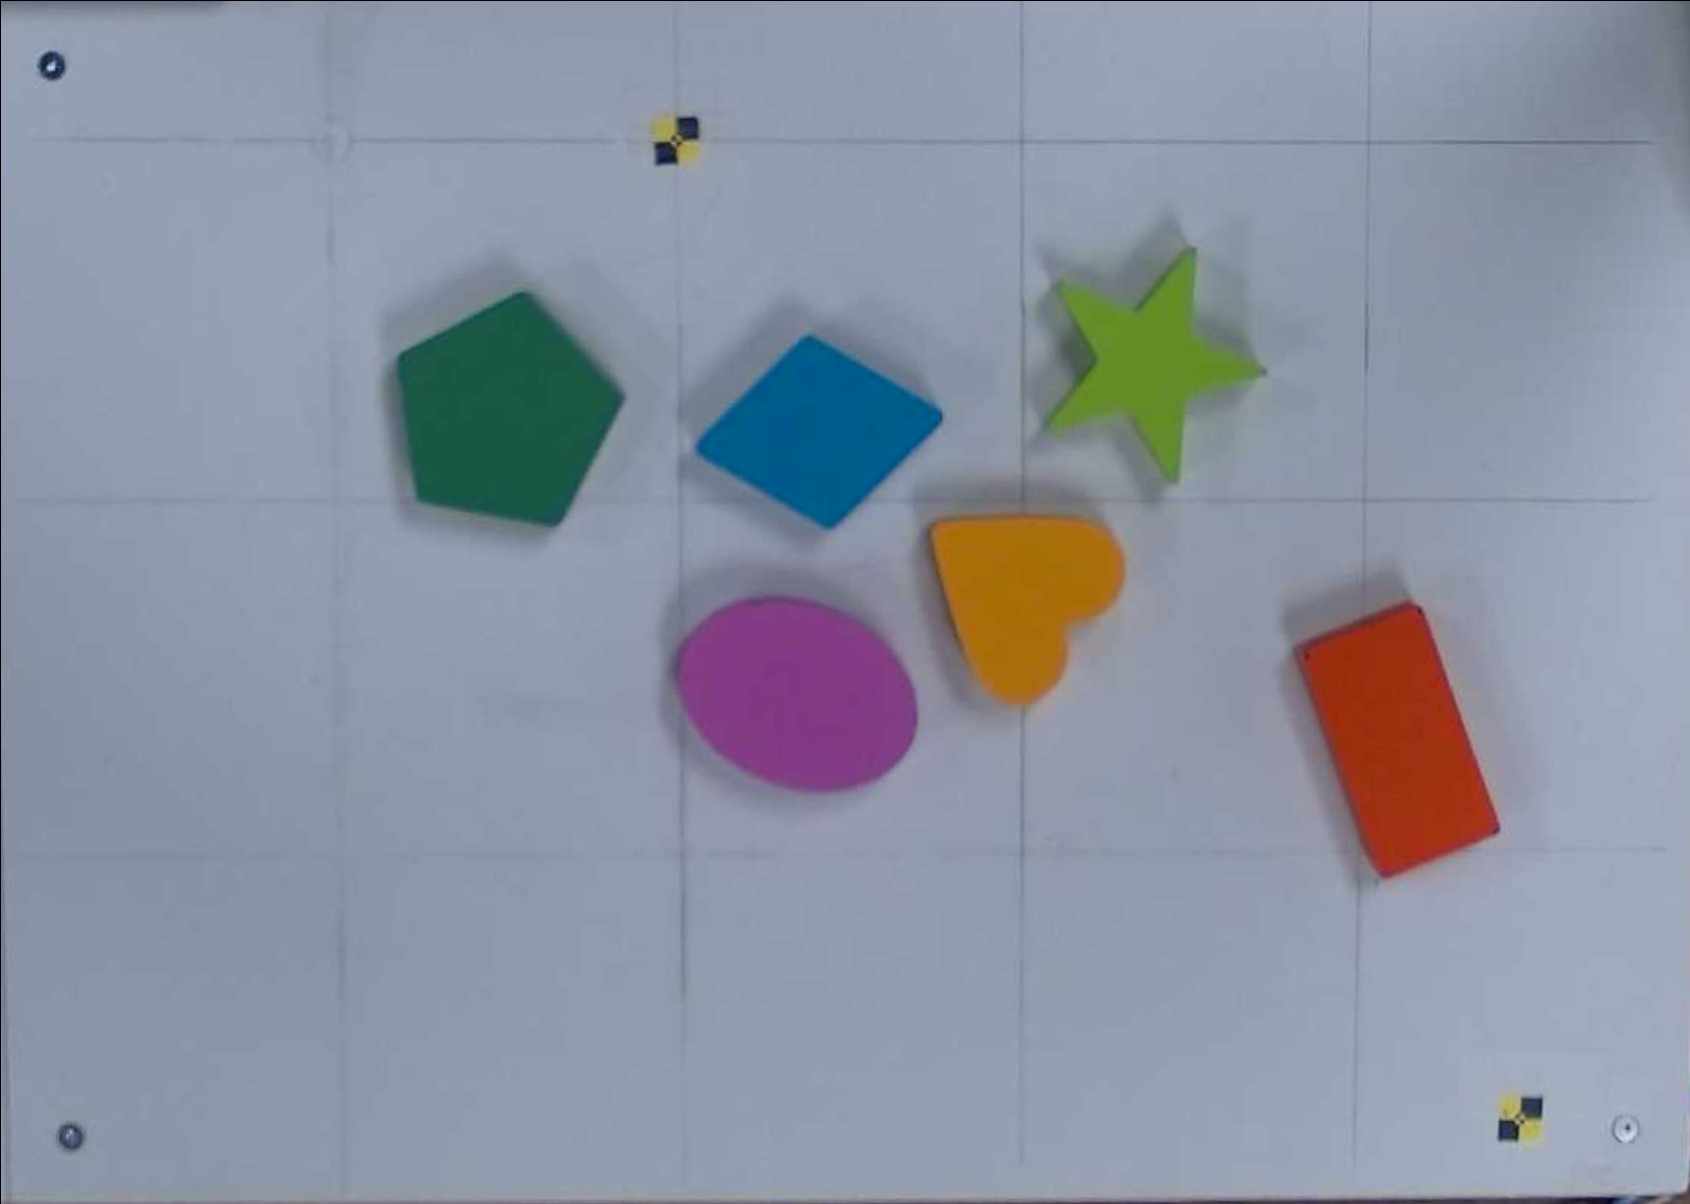Ellipse: (674, 597, 917, 794)
Heart: (929, 515, 1124, 710)
Parallelogram: (697, 335, 942, 529)
Pentagon: (399, 292, 625, 529)
Rectangle: (1293, 603, 1501, 880)
Star: (1042, 245, 1267, 485)
